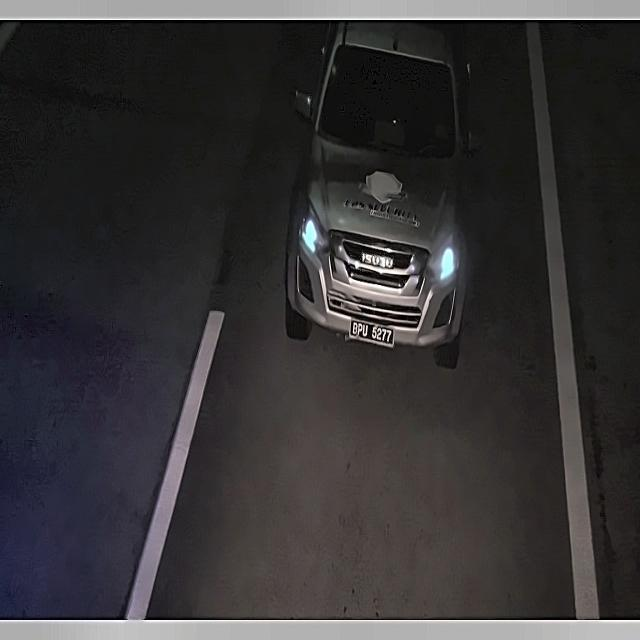car: (349, 311, 394, 355)
